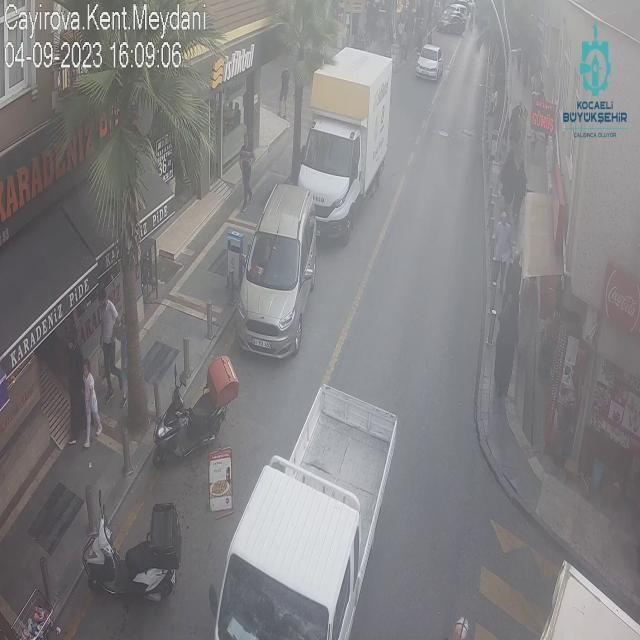Car: (232, 183, 318, 361), (415, 42, 444, 83)
Cycle: (78, 490, 188, 603), (154, 358, 236, 458)
Truck: (210, 388, 400, 640), (286, 45, 396, 238)
